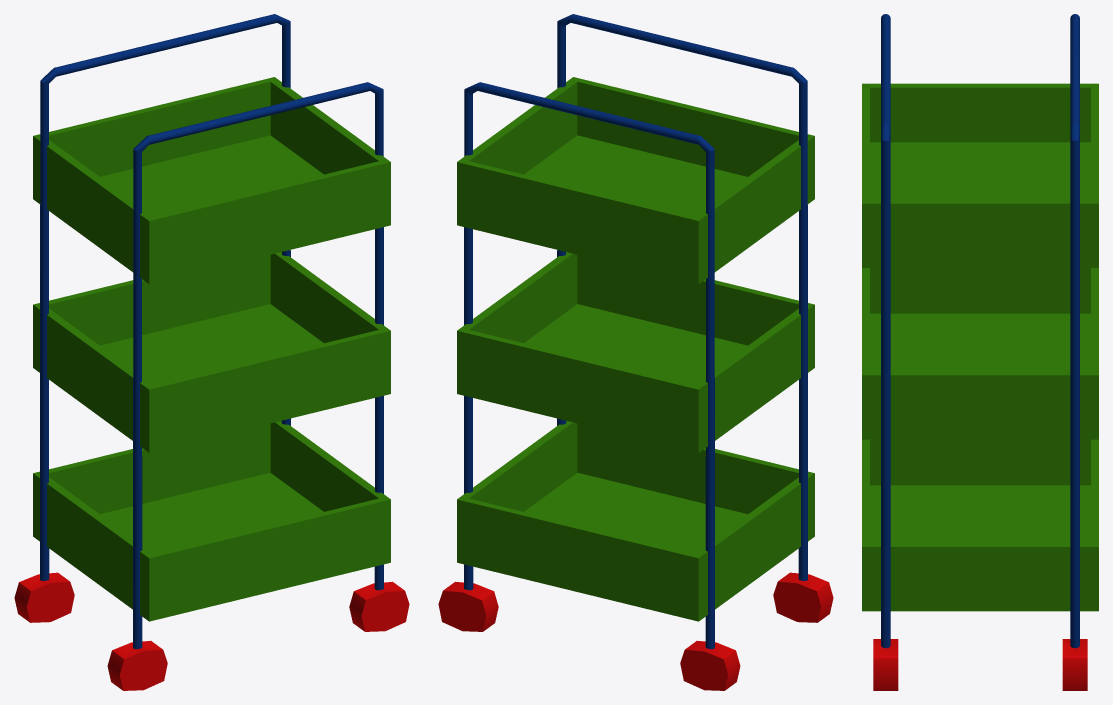
The model's file is vb_cart.fbx.
The picture shows the model from 3 angles, left to right: view 1: azimuth 30°, elevation 25°; view 2: azimuth 150°, elevation 25°; view 3: azimuth 270°, elevation 25°; orthographic projection.
Parts seen in each view (by area): view 1: Cart; view 2: Cart; view 3: Cart.
Boxes of the visible parts, bbox=[...] form: Cart: bbox=[14, 14, 409, 690]; Cart: bbox=[438, 14, 833, 690]; Cart: bbox=[862, 14, 1098, 690].
Size of the model in its own units: 1.11 by 2.01 by 0.775.
